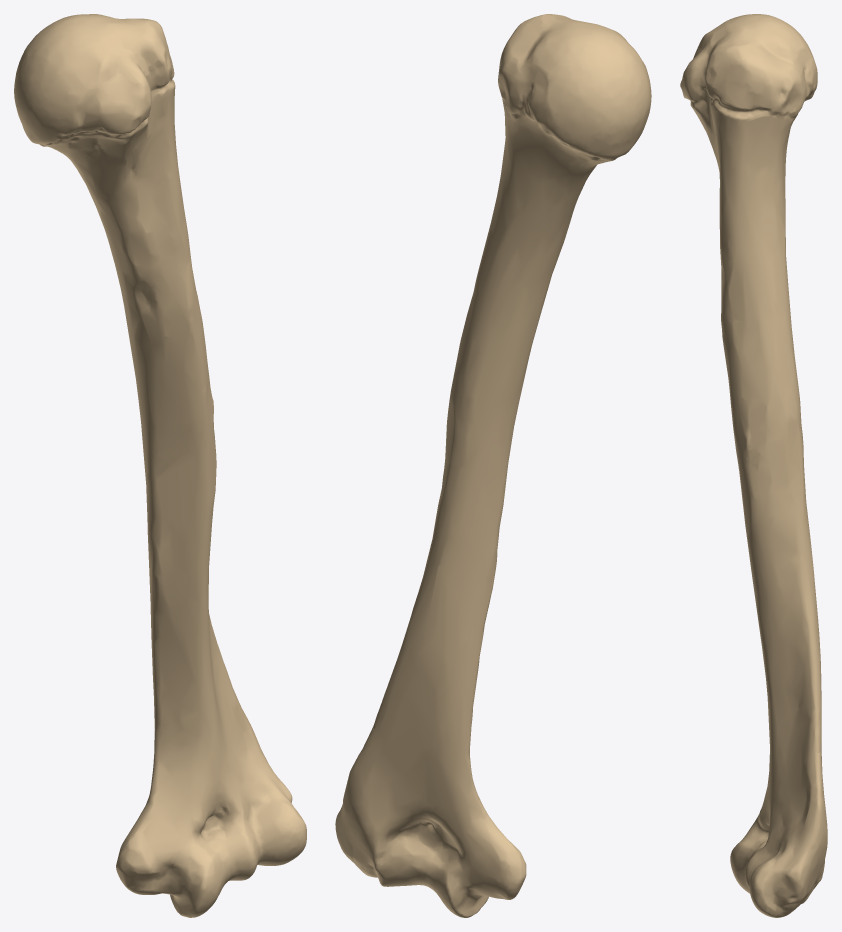
The model's file is explorar-humerus.glb.
3 views of the same model, side by side, from view 1: azimuth 30°, elevation 25°; view 2: azimuth 150°, elevation 25°; view 3: azimuth 270°, elevation 25° (orthographic). The views are drawn at different scales.
Visible parts, largest first — view 1: humerus_left__cuerpo, humerus_left__cabeza, humerus_left__base, humerus_left__troclea; view 2: humerus_left__cuerpo, humerus_left__cabeza, humerus_left__base, humerus_left__troclea; view 3: humerus_left__cuerpo, humerus_left__base, humerus_left__cabeza, humerus_left__troclea.
Part boxes in pixels (x1=…): humerus_left__cuerpo: x1=85, y1=146, x2=246, y2=757; humerus_left__cabeza: x1=14, y1=14, x2=174, y2=167; humerus_left__base: x1=58, y1=28, x2=306, y2=878; humerus_left__troclea: x1=116, y1=800, x2=253, y2=917; humerus_left__cuerpo: x1=358, y1=172, x2=585, y2=807; humerus_left__cabeza: x1=498, y1=14, x2=651, y2=175; humerus_left__base: x1=335, y1=27, x2=596, y2=886; humerus_left__troclea: x1=384, y1=820, x2=526, y2=917; humerus_left__cuerpo: x1=719, y1=167, x2=823, y2=806; humerus_left__base: x1=712, y1=62, x2=827, y2=917; humerus_left__cabeza: x1=680, y1=14, x2=817, y2=174; humerus_left__troclea: x1=730, y1=807, x2=769, y2=893.
Size of the model in its own units: 0.1009 by 0.3075 by 0.0495.
